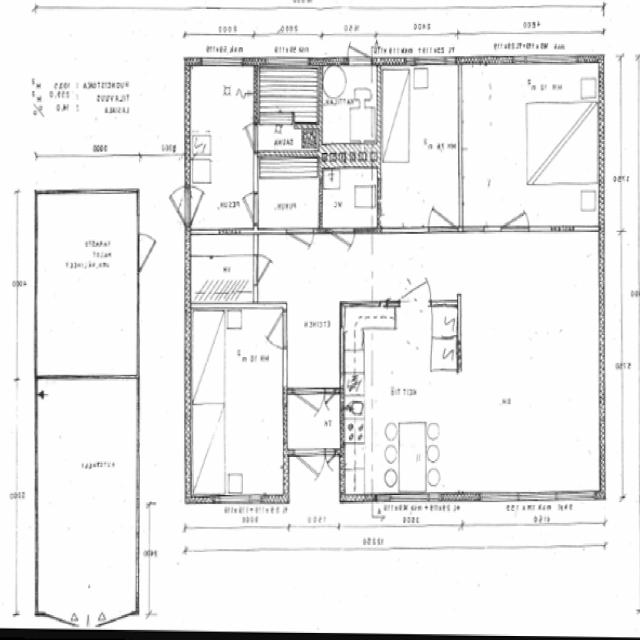door: (295, 449, 325, 496), (295, 387, 325, 432), (400, 262, 430, 306), (158, 186, 192, 223), (186, 186, 218, 223), (256, 312, 288, 349), (430, 192, 456, 233), (504, 192, 530, 233), (288, 228, 314, 268), (348, 24, 372, 65), (137, 235, 165, 268), (231, 192, 259, 224), (333, 228, 355, 264), (234, 122, 260, 149), (254, 254, 278, 281), (325, 448, 336, 471), (325, 387, 335, 407)
